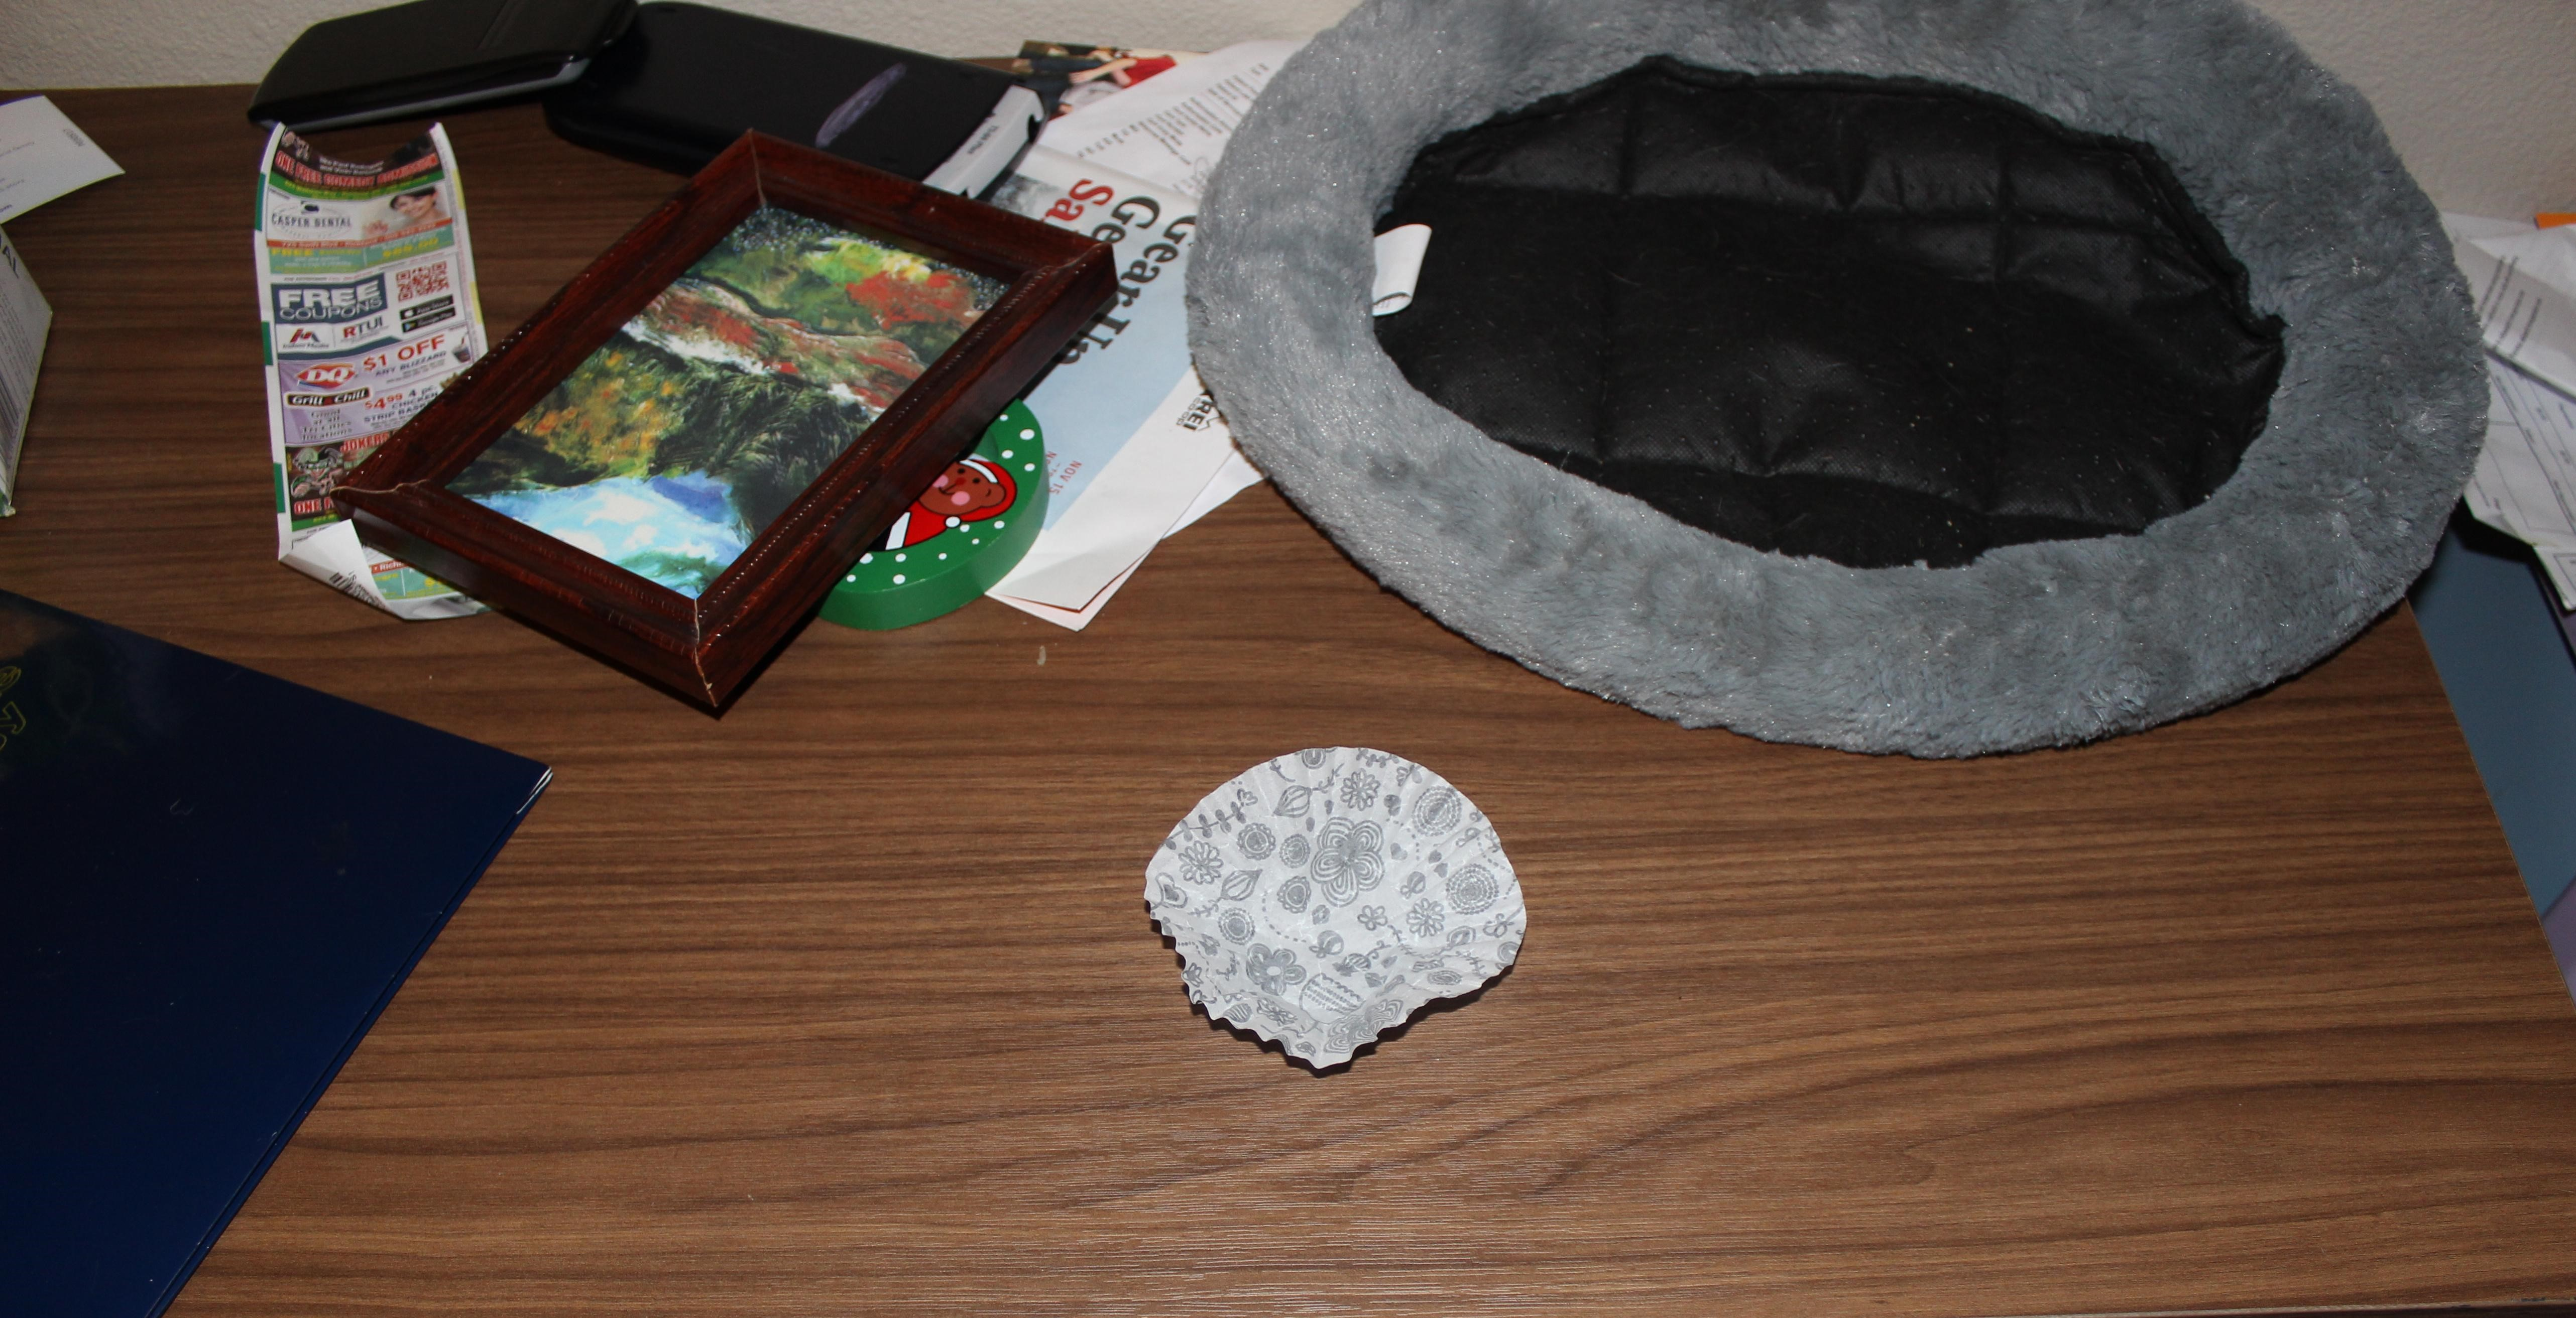cupcakePaper: (1131, 728, 1554, 1088)
